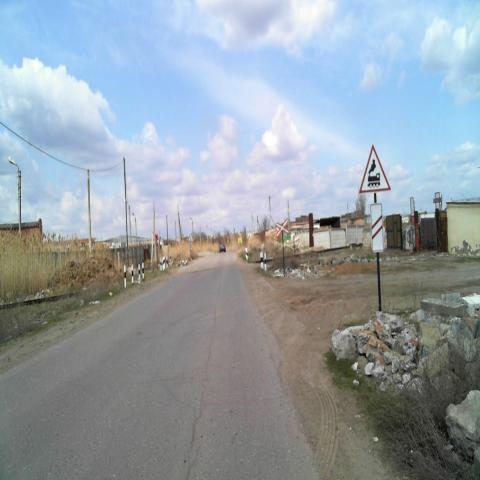1_2: (359, 140, 391, 194)
